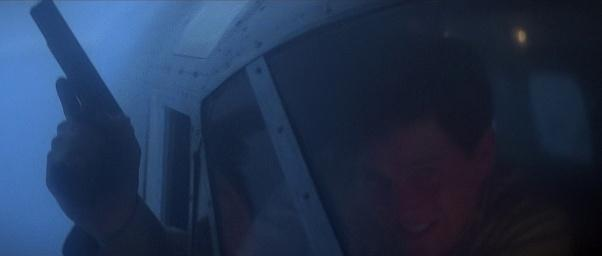Gun: (29, 0, 141, 149)
